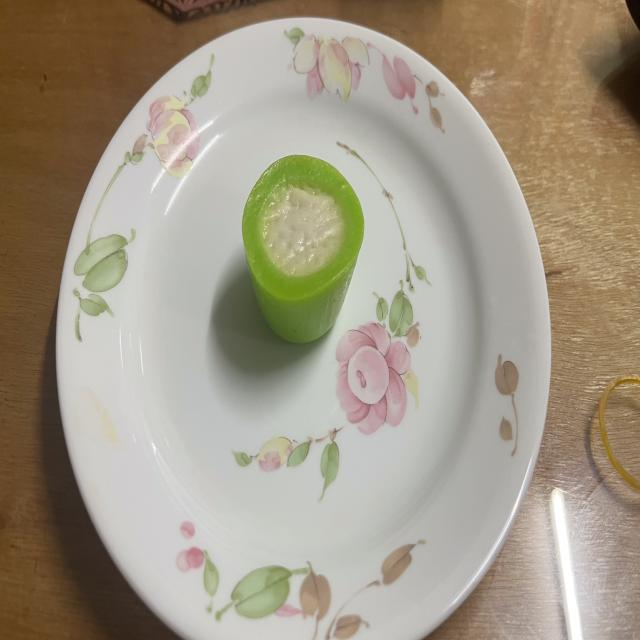nona-manis: (242, 156, 364, 342)
